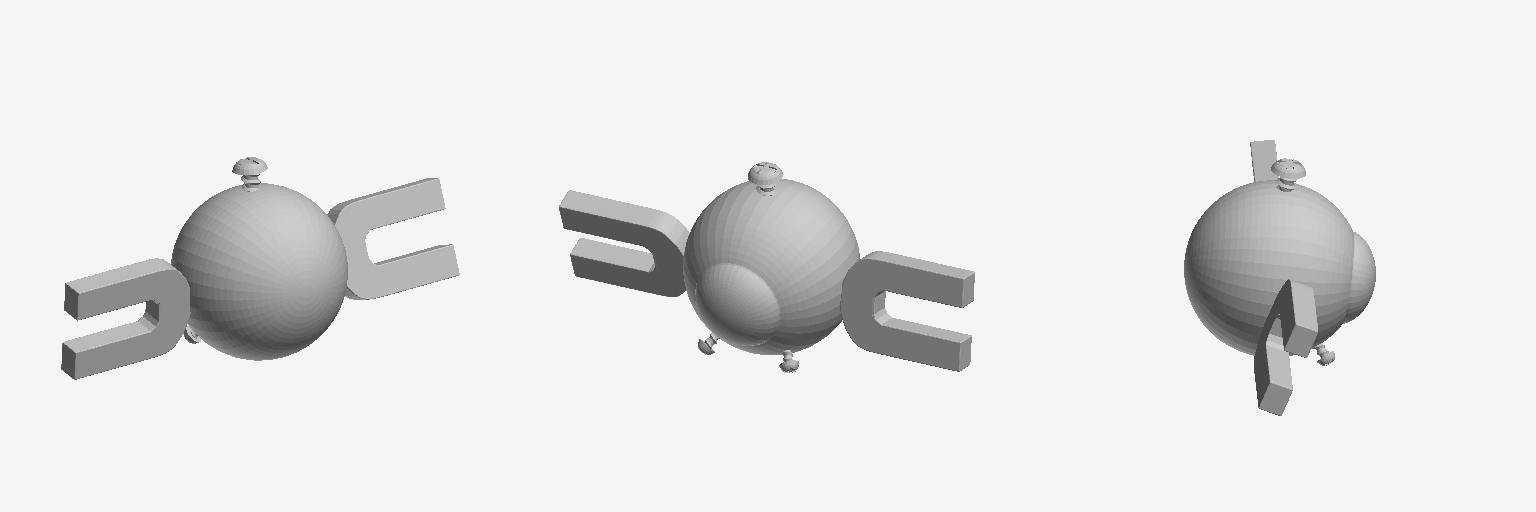
The model's file is magnemite.obj.
3 views of the same model, side by side, from view 1: azimuth 30°, elevation 25°; view 2: azimuth 150°, elevation 25°; view 3: azimuth 270°, elevation 25° (orthographic).
Visible parts, largest first — view 1: Magnemite:pSphere3, Magnemite:pCube2, Magnemite:pCube3, Magnemite:pCylinder4; view 2: Magnemite:pSphere3, Magnemite:pCube2, Magnemite:pCube3, Magnemite:pCylinder4; view 3: Magnemite:pSphere3, Magnemite:pCube3, Magnemite:pCube2, Magnemite:pCylinder4.
Part boxes in pixels (left/top/right/bottom): Magnemite:pSphere3: left=171, top=183, right=347, bottom=360; Magnemite:pCube2: left=61, top=258, right=190, bottom=379; Magnemite:pCube3: left=327, top=178, right=459, bottom=299; Magnemite:pCylinder4: left=232, top=157, right=267, bottom=191; Magnemite:pSphere3: left=683, top=179, right=859, bottom=354; Magnemite:pCube2: left=840, top=251, right=974, bottom=371; Magnemite:pCube3: left=559, top=190, right=689, bottom=296; Magnemite:pCylinder4: left=748, top=162, right=782, bottom=195; Magnemite:pSphere3: left=1184, top=180, right=1375, bottom=355; Magnemite:pCube3: left=1254, top=279, right=1317, bottom=415; Magnemite:pCube2: left=1250, top=140, right=1278, bottom=181; Magnemite:pCylinder4: left=1271, top=158, right=1305, bottom=191.
Bounding box in the file's own units: 4.5 × 2.08 × 1.93.